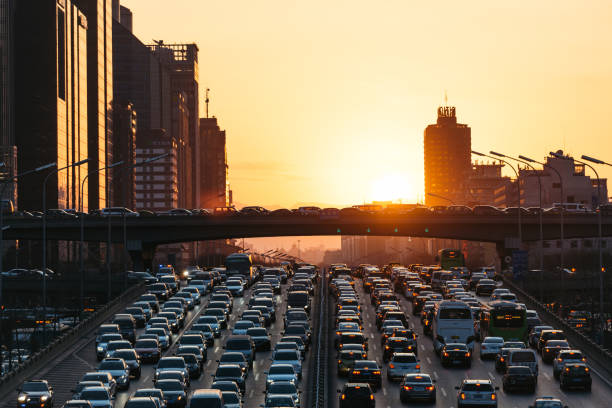bus: (435, 303, 475, 353), (484, 304, 528, 344), (437, 248, 466, 276), (225, 253, 253, 281)
car: (457, 377, 496, 406), (501, 366, 537, 394), (400, 374, 435, 402), (498, 350, 537, 375), (100, 356, 128, 388), (350, 360, 382, 388), (16, 379, 49, 405), (153, 358, 188, 382), (562, 364, 592, 391), (339, 384, 374, 407), (225, 336, 252, 364), (389, 353, 419, 377), (267, 385, 298, 408), (441, 343, 470, 367), (555, 352, 585, 375), (336, 350, 363, 375), (268, 365, 297, 387), (340, 333, 366, 357), (545, 340, 571, 364), (217, 365, 243, 388), (180, 335, 205, 358), (99, 335, 125, 357), (246, 328, 270, 351), (538, 331, 563, 353), (163, 300, 185, 324), (393, 329, 417, 351), (100, 207, 139, 220), (284, 313, 307, 335), (273, 348, 298, 368), (136, 339, 157, 362), (122, 305, 146, 325), (204, 308, 228, 328), (480, 337, 505, 356), (155, 312, 177, 333), (139, 293, 162, 313), (209, 294, 232, 314), (383, 339, 408, 357), (254, 298, 275, 319), (113, 315, 135, 335), (197, 316, 219, 336), (287, 290, 309, 310), (384, 313, 407, 332), (104, 342, 129, 359), (337, 314, 362, 331), (336, 322, 355, 344), (264, 275, 281, 296), (412, 296, 428, 317), (376, 294, 397, 310), (474, 278, 494, 294), (336, 299, 360, 312), (130, 270, 151, 284), (225, 279, 242, 295), (233, 319, 251, 334), (365, 277, 383, 292), (329, 265, 346, 280), (492, 288, 509, 301), (181, 287, 195, 302), (414, 287, 433, 298)
